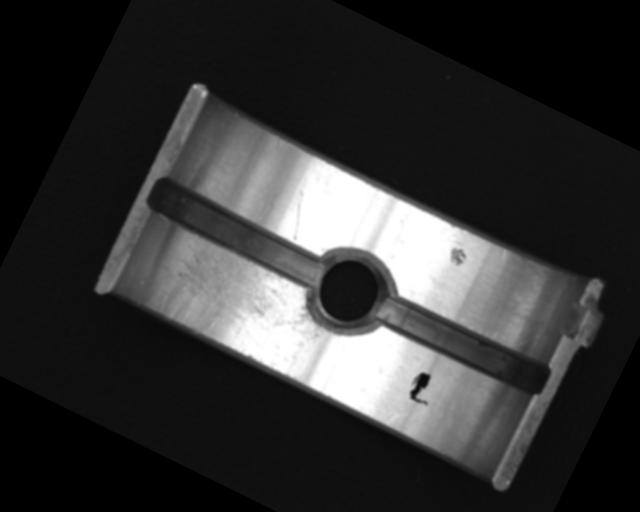blot: (404, 367, 440, 408)
bruise: (445, 244, 470, 269)
gap: (141, 171, 332, 295), (371, 287, 552, 401)
hole: (296, 238, 402, 348)
nick: (279, 191, 316, 242)
scratch: (136, 225, 337, 383)
